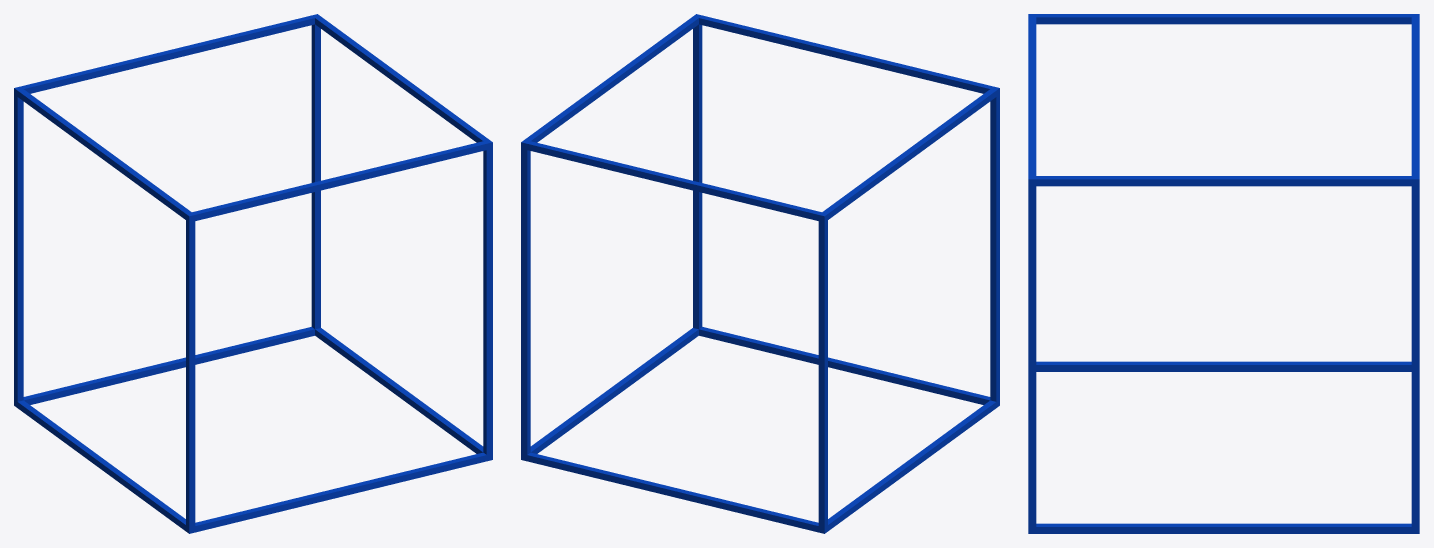
File: bounding_box.obj
3 renders of one model, left to right at view 1: azimuth 30°, elevation 25°; view 2: azimuth 150°, elevation 25°; view 3: azimuth 270°, elevation 25°, orthographic. The views are drawn at different scales.
Parts seen in each view (by area): view 1: Cube; view 2: Cube; view 3: Cube.
Boxes of the visible parts, left/top/right/bottom form: Cube: left=14, top=14, right=492, bottom=533; Cube: left=521, top=14, right=999, bottom=533; Cube: left=1028, top=14, right=1419, bottom=533.
Size of the model in its own units: 1 by 1 by 1.
